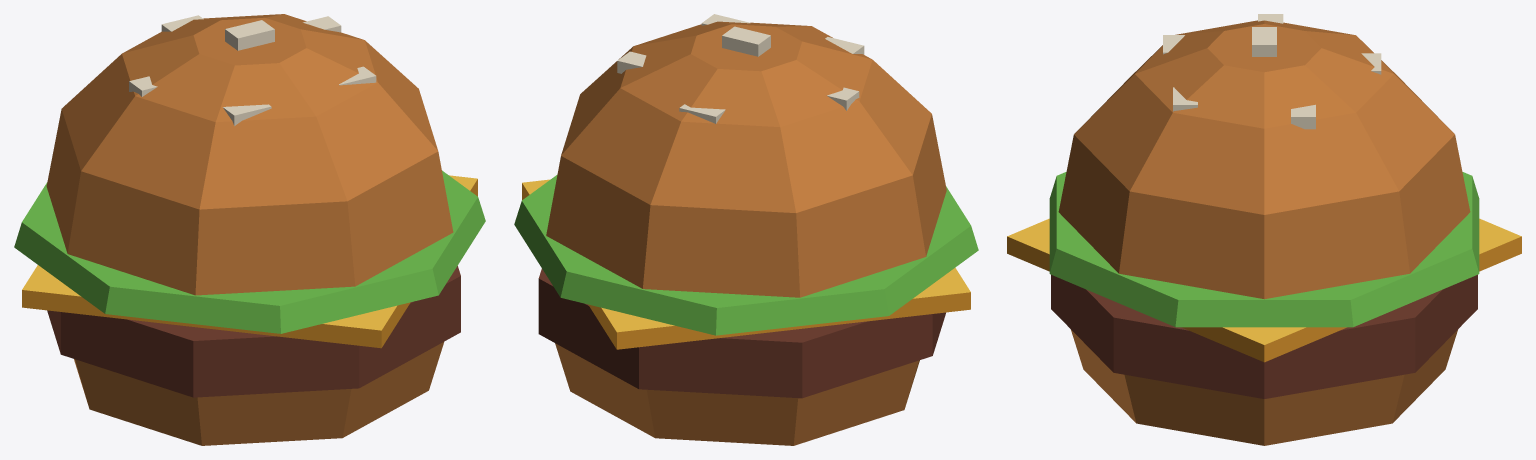
Rendered from J_Burger.fbx.
3 views of the same model, side by side, from view 1: azimuth 30°, elevation 25°; view 2: azimuth 150°, elevation 25°; view 3: azimuth 270°, elevation 25° (orthographic). The views are drawn at different scales.
Parts seen in each view (by area): view 1: J_Burger; view 2: J_Burger; view 3: J_Burger.
Part boxes in pixels (box(x1,y1,x2,y2)): J_Burger: box(14, 14, 485, 445); J_Burger: box(514, 14, 978, 445); J_Burger: box(1007, 14, 1521, 445).
Size of the model in its own units: 0.54 by 0.386 by 0.54.
